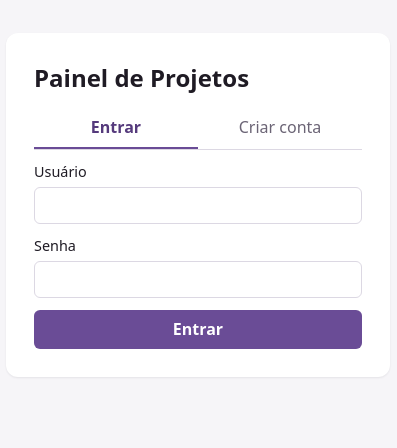
LoginPage (spec H6) › mostra a regra de senha que falhou no cadastro
Click the tab "Criar conta": [280, 128] box [198,108,362,149]
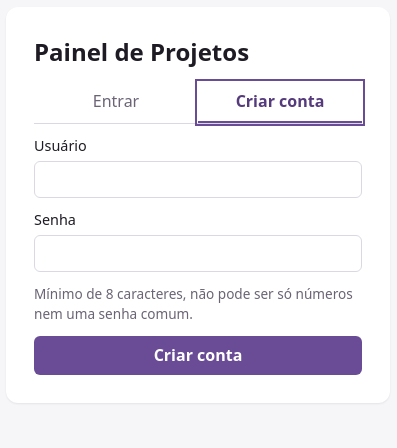
In the field labelled "Usuário": [198, 180] box [34,161,362,198], type "ana"
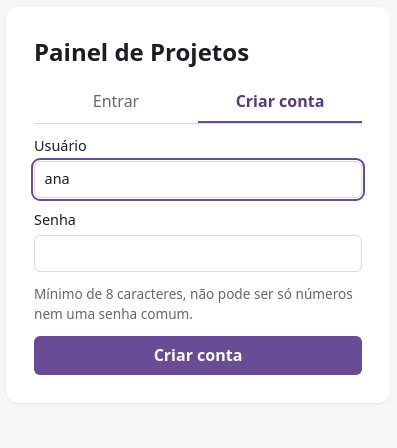
In the password field labelled "Senha": [198, 254] box [34,235,362,272], type "12345678"
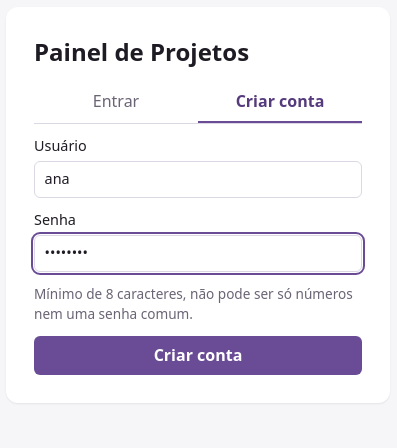
Click the button "Criar conta": [198, 355] box [34,336,362,375]
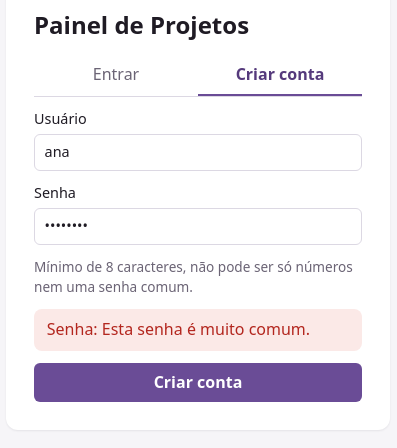
Result: the message reads "Senha: Esta senha é muito comum." at [47,318,310,340]
